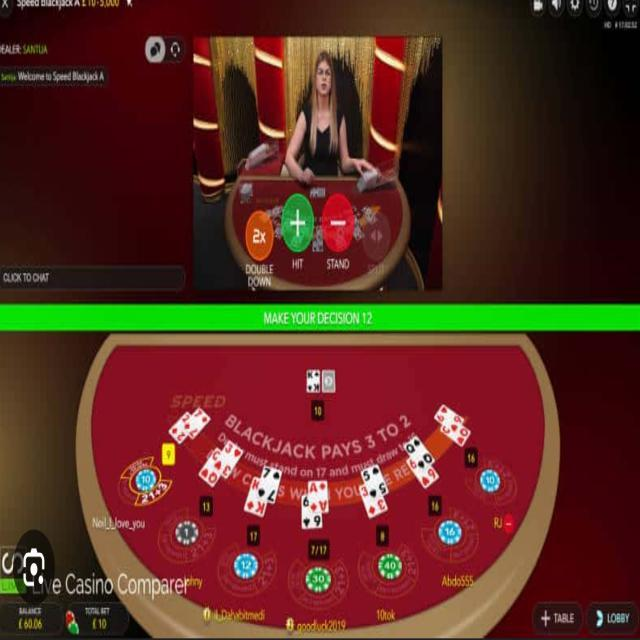Card-2: (168, 411, 191, 444)
Card-3: (214, 440, 243, 479), (359, 484, 388, 519)
Card-5: (361, 464, 389, 501)
Card-6: (406, 457, 439, 489), (434, 403, 464, 434), (301, 496, 322, 529)
Card-7: (256, 465, 282, 504), (182, 407, 211, 440)
Card-A: (308, 481, 329, 513)
Card-K: (244, 476, 267, 516), (306, 369, 320, 393)
Card-Q: (404, 435, 435, 473), (199, 446, 222, 488), (441, 425, 471, 447)
